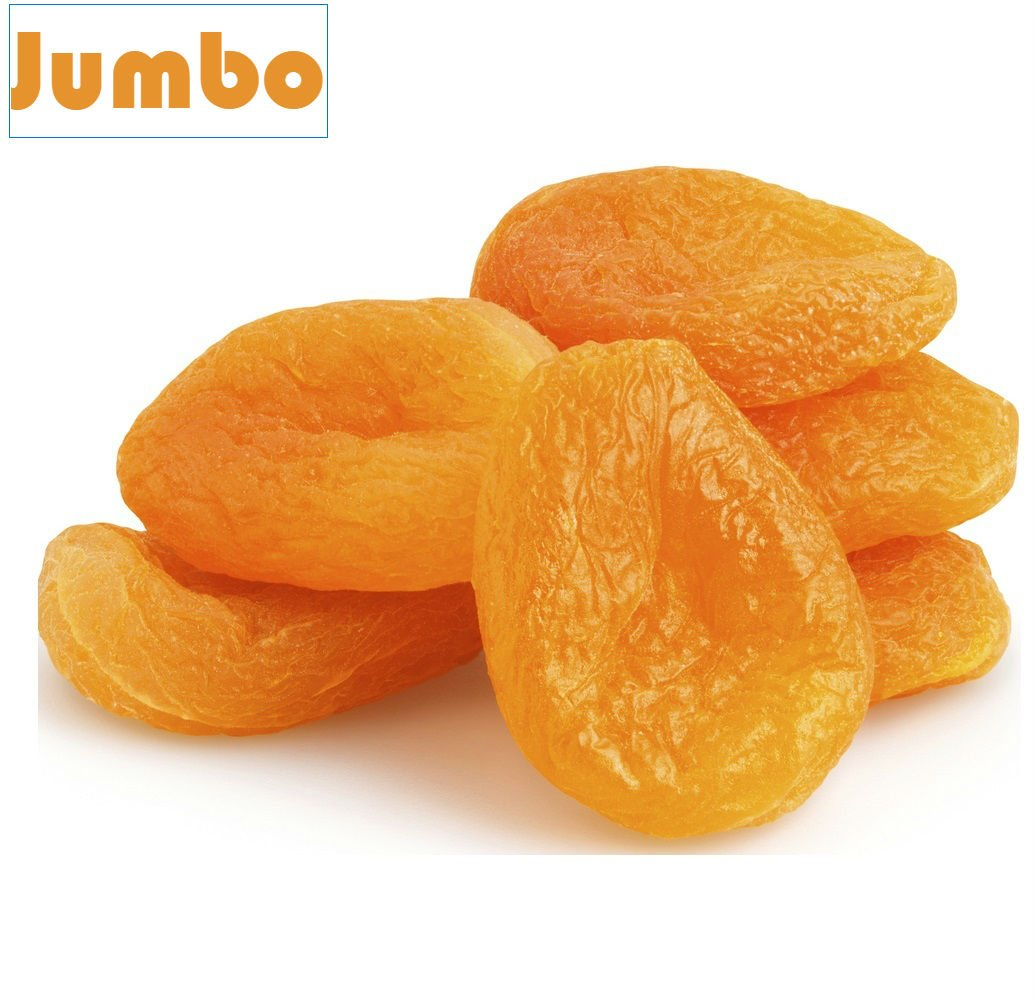Apricot 17cal Avocado Tropical Smoothie missing:Kiwi: (38, 172, 1036, 837)
